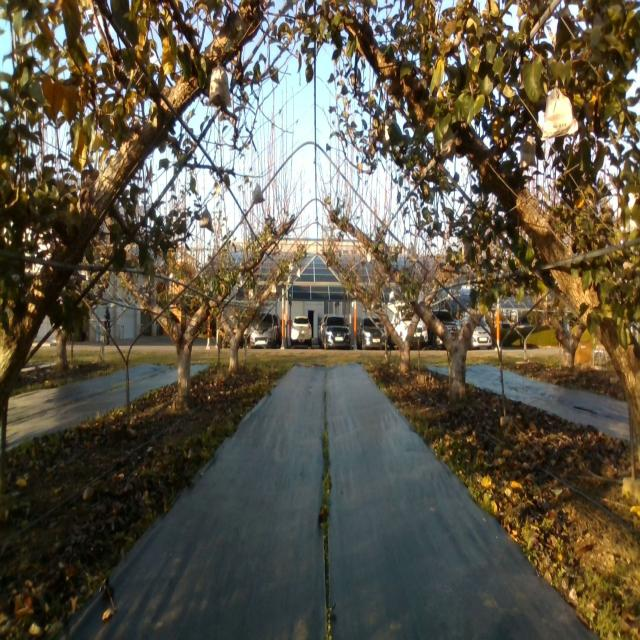pearbags: (541, 86, 579, 141), (209, 66, 231, 106), (520, 135, 538, 169), (200, 205, 213, 231), (252, 183, 264, 206), (407, 242, 418, 264)
